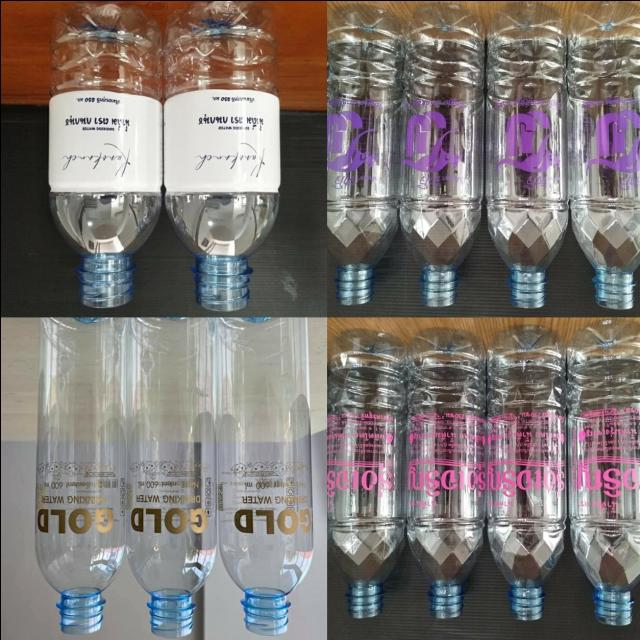plastik: (163, 0, 279, 310), (48, 1, 162, 307), (213, 317, 312, 634), (34, 317, 125, 634), (126, 317, 215, 637), (399, 3, 483, 306), (486, 3, 566, 307), (326, 5, 403, 304), (405, 327, 484, 618), (487, 326, 565, 619), (326, 329, 405, 618), (566, 1, 640, 309), (566, 320, 640, 624)
